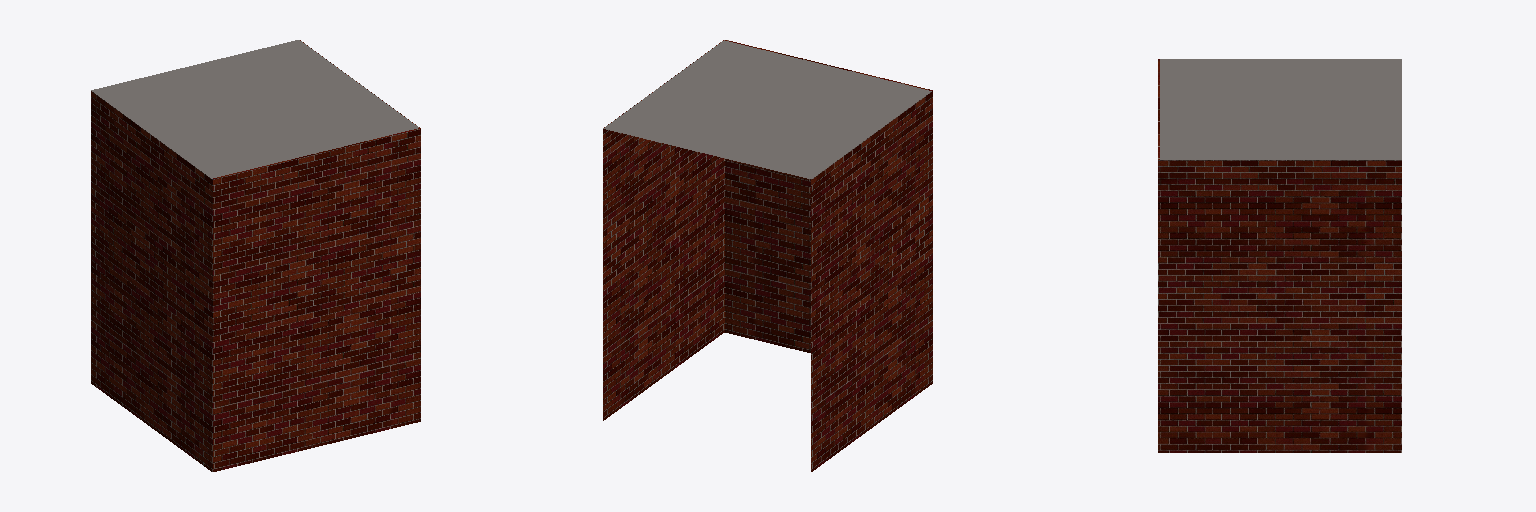
The picture shows the model from 3 angles: view 1: azimuth 30°, elevation 25°; view 2: azimuth 150°, elevation 25°; view 3: azimuth 270°, elevation 25°; orthographic projection.
Parts seen in each view (by area): view 1: pCube1; view 2: pCube1; view 3: pCube1.
Boxes of the visible parts, x1=… form: pCube1: x1=91, y1=40, x2=420, y2=471; pCube1: x1=603, y1=40, x2=932, y2=471; pCube1: x1=1158, y1=59, x2=1401, y2=452.
Bounding box in the file's own units: 700 × 939 × 708.
Materials: 1 (1 with a texture image).